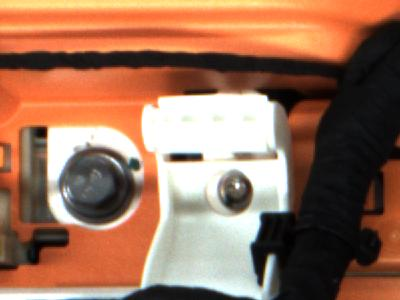nut_b: (58, 147, 144, 225)
